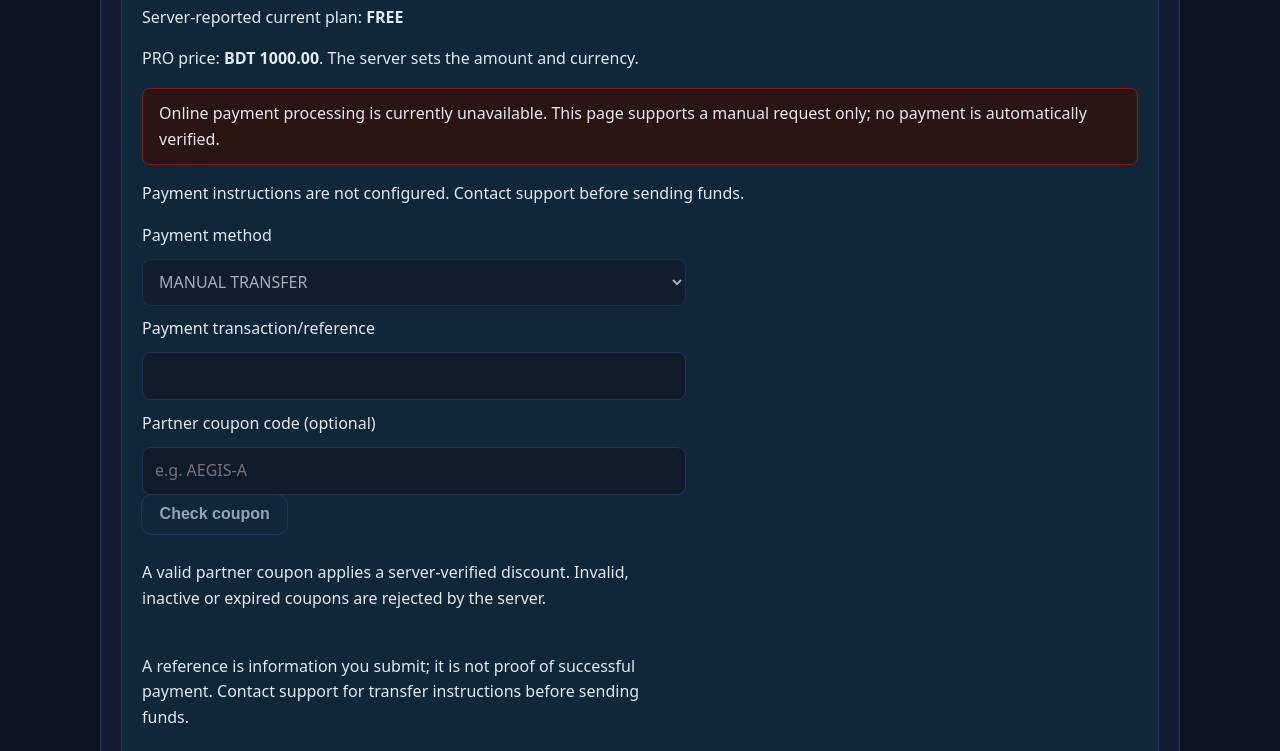
Test case: Account payment panel › submits only the displayed price and manual reference; never claims verification
This screenshot has width=1280, height=751.
(page scrolled)
Type "TXN-ABC123" into the field labelled "Payment transaction/reference" at [414, 376], box [142, 352, 686, 400]
(page scrolled)
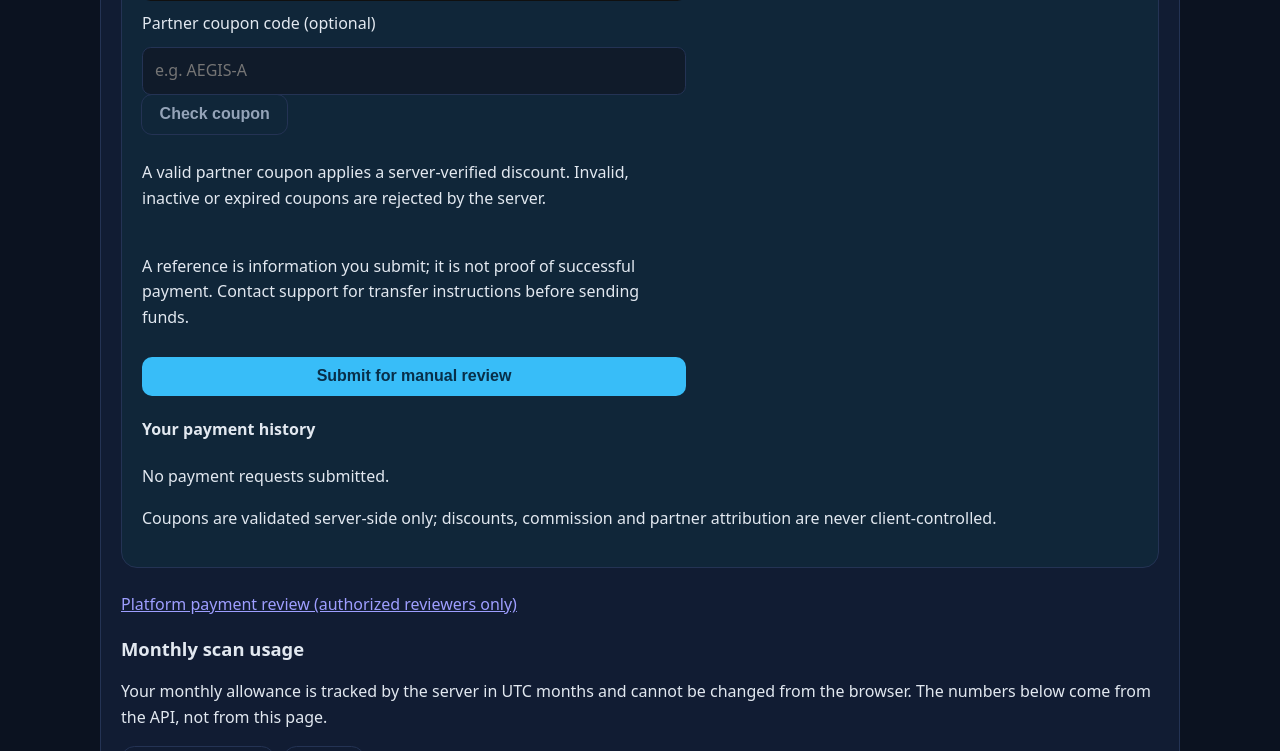
Click the button "Submit for manual review" at [414, 376], box [142, 357, 686, 396]
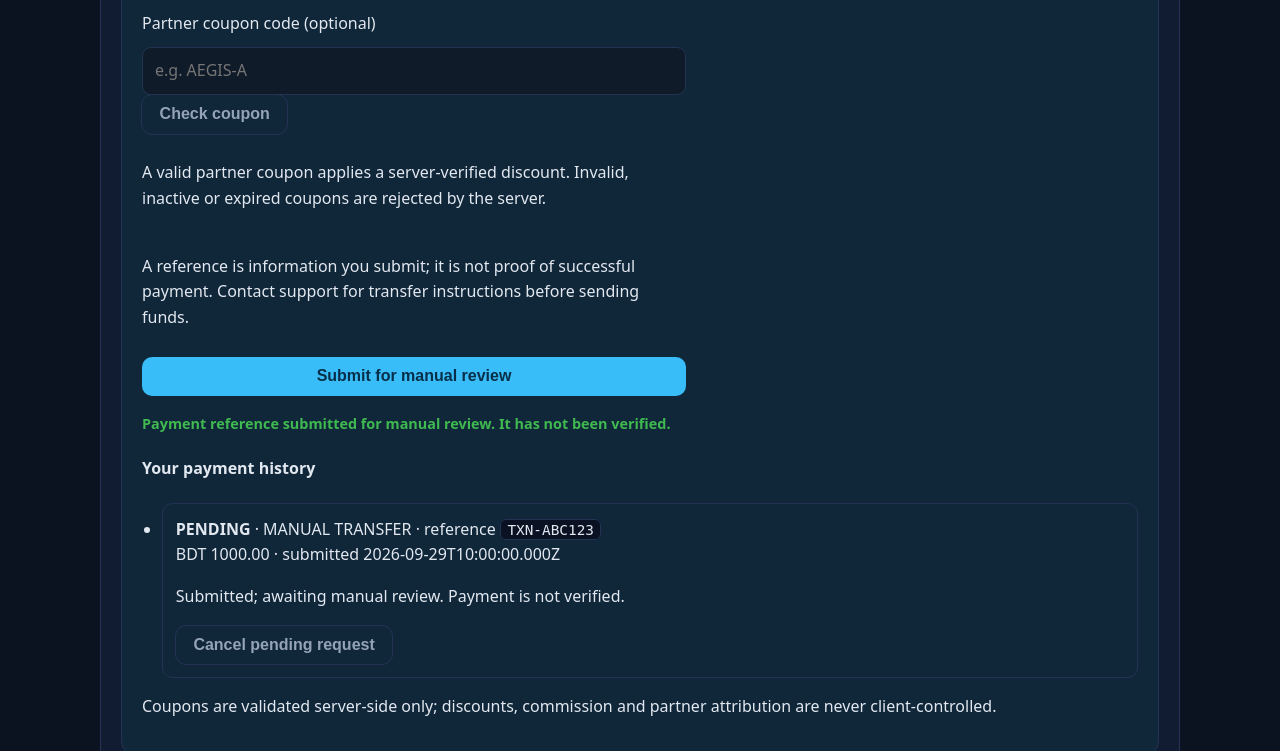
Expected: the message shows "It has not been verified.", [142, 414, 670, 433]
